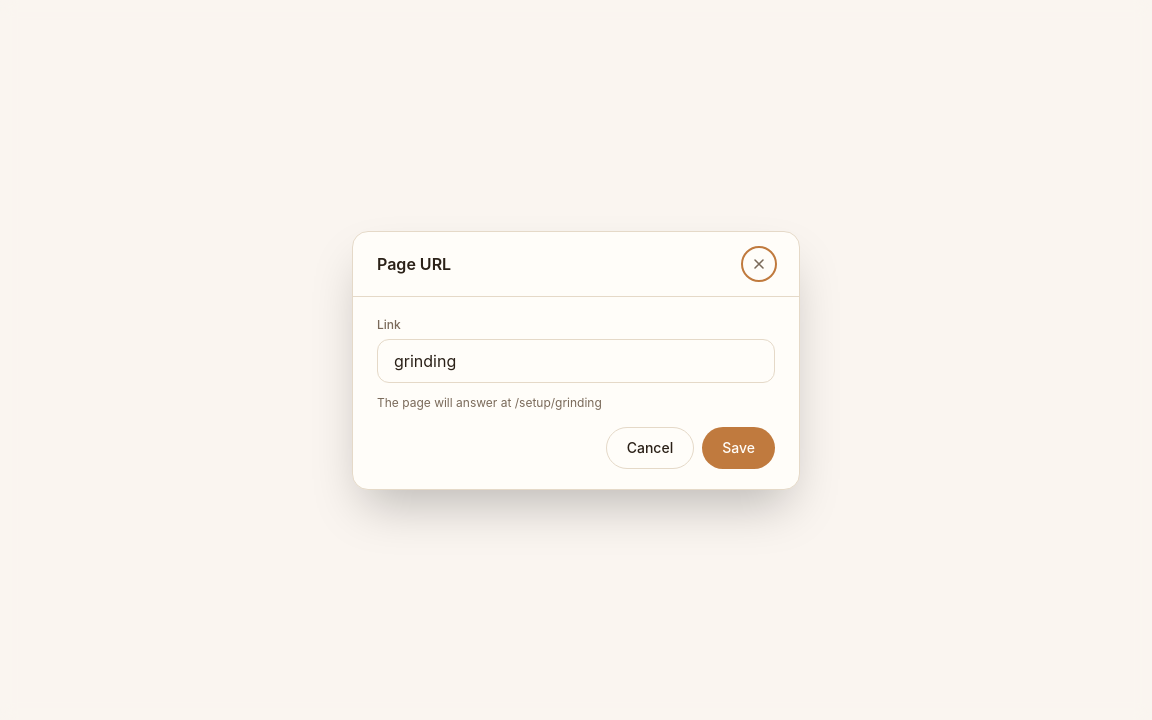
ChangePageUrlDialog › refuses a slug the server would reject, without asking it
Replace the text in the field labelled "Link" with "grinding notes" at {"x": 576, "y": 360}, box x1=377 y1=338 x2=775 y2=382
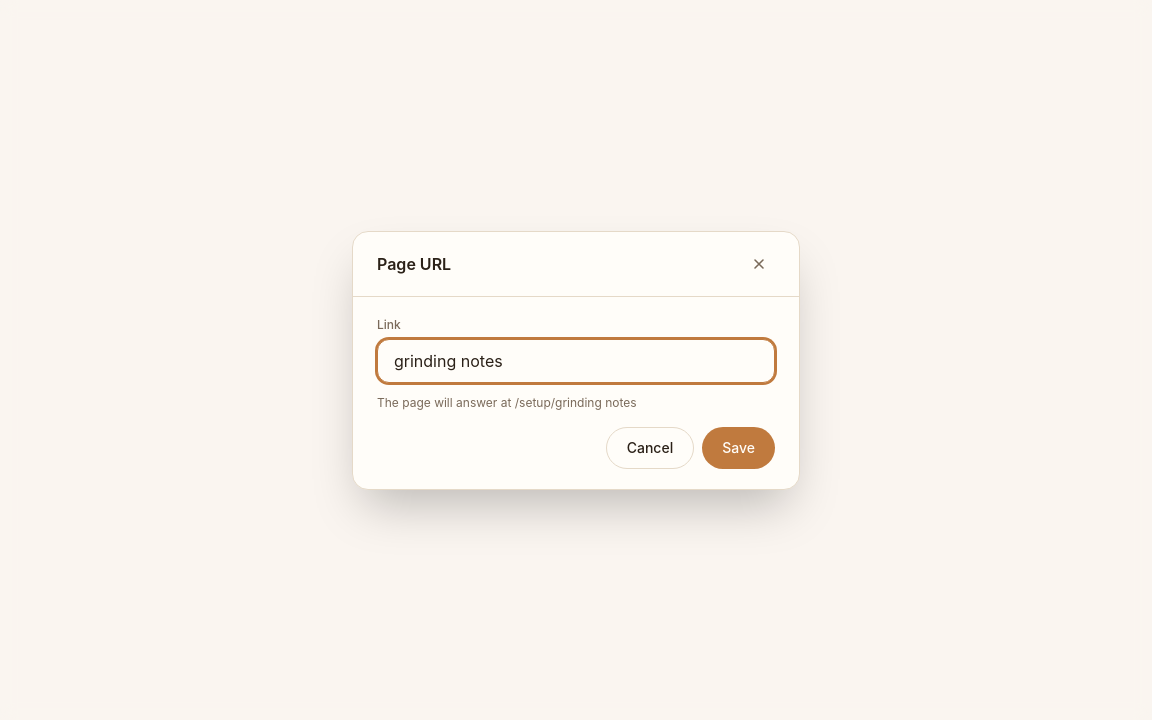
Click the button "Save" at {"x": 739, "y": 448}, box x1=702 y1=426 x2=775 y2=468
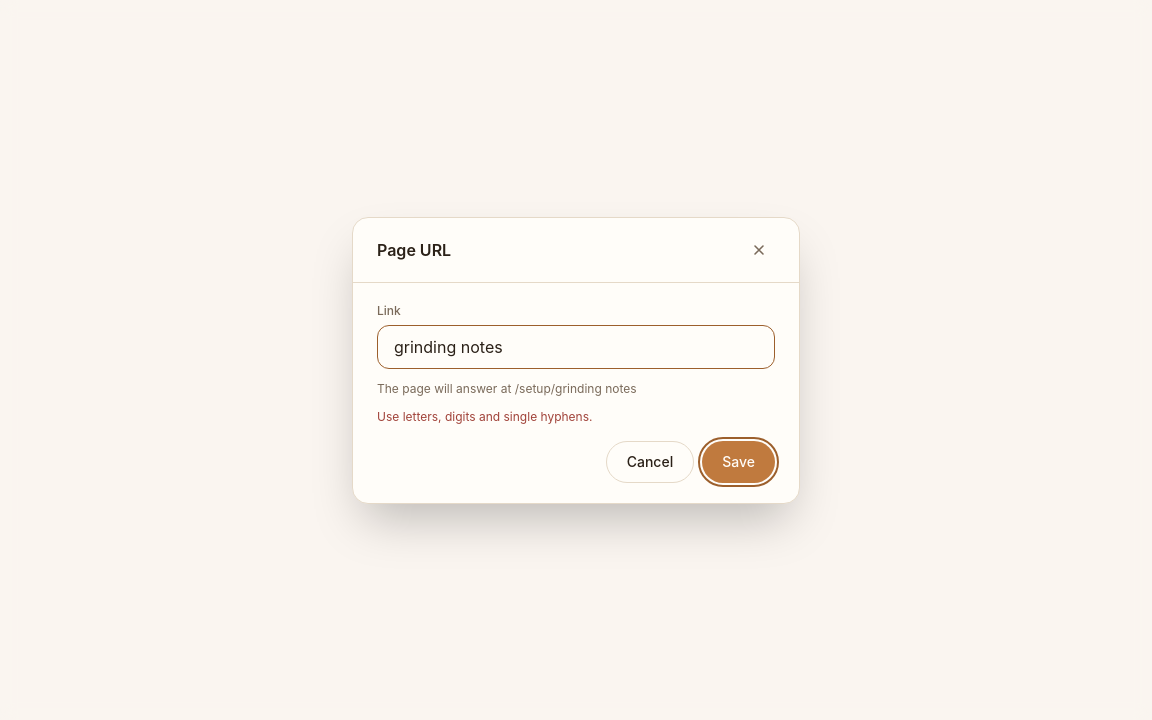
Now the message reads "Use letters, digits and single hyphens.", box x1=377 y1=408 x2=592 y2=424
